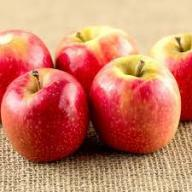apple: (92, 61, 185, 152), (6, 74, 86, 154), (58, 24, 144, 94), (151, 32, 191, 116)
